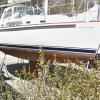Boat: (1, 10, 100, 77)
